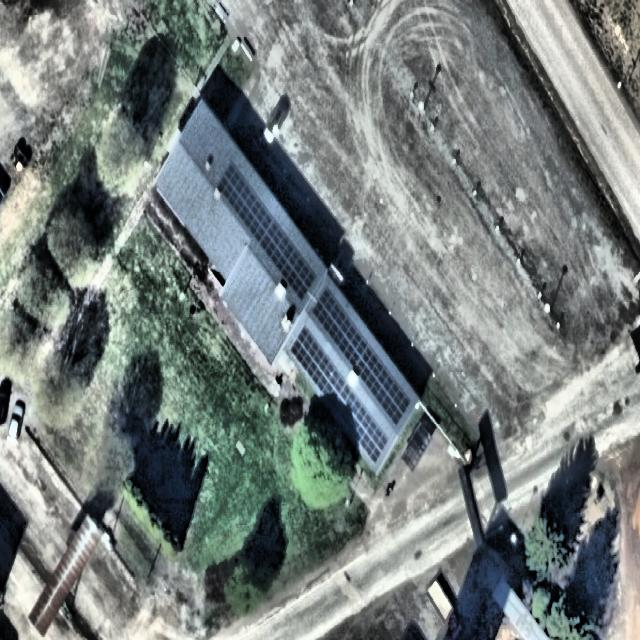roof_pv: (376, 371, 411, 429), (341, 384, 375, 441), (219, 160, 250, 222), (313, 286, 348, 340), (334, 318, 368, 370), (292, 324, 324, 379), (358, 345, 390, 396), (267, 220, 296, 276), (316, 351, 347, 403), (247, 193, 271, 253), (288, 252, 316, 302), (360, 416, 389, 464)
